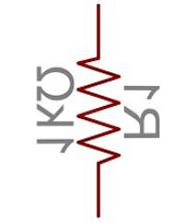resistor: (75, 44, 127, 169)
